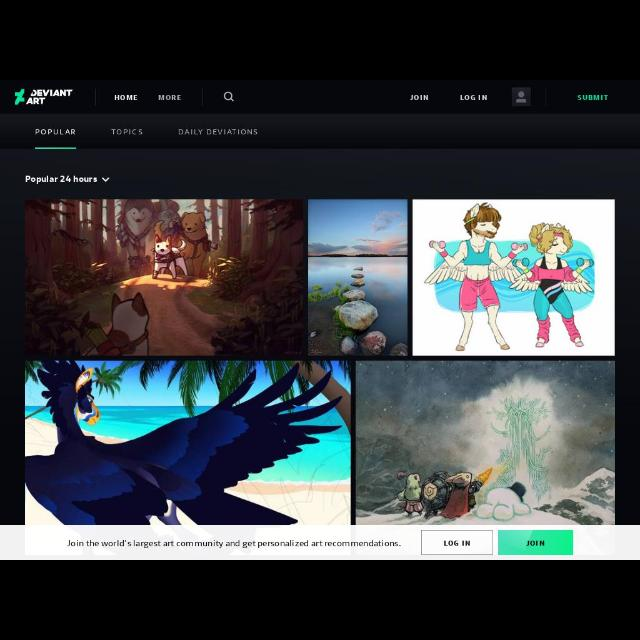icon: (223, 91, 235, 102), (102, 177, 110, 183)
iframe: (1, 526, 639, 558)
image: (25, 360, 351, 524), (26, 200, 304, 356), (356, 361, 614, 525), (413, 198, 615, 356), (308, 200, 408, 356), (15, 88, 73, 105), (512, 88, 530, 106)
multitab: (34, 128, 258, 136)
spinner: (26, 176, 110, 184)
text: (67, 540, 401, 548), (25, 176, 97, 184), (178, 129, 258, 135), (36, 129, 76, 135), (577, 95, 609, 101), (111, 129, 143, 135), (158, 95, 182, 102), (460, 95, 488, 101), (444, 540, 471, 546), (114, 95, 138, 101), (526, 540, 546, 546), (409, 95, 428, 101)
textbutton: (498, 530, 574, 556), (421, 530, 493, 556)
toolbar: (1, 80, 640, 114)
